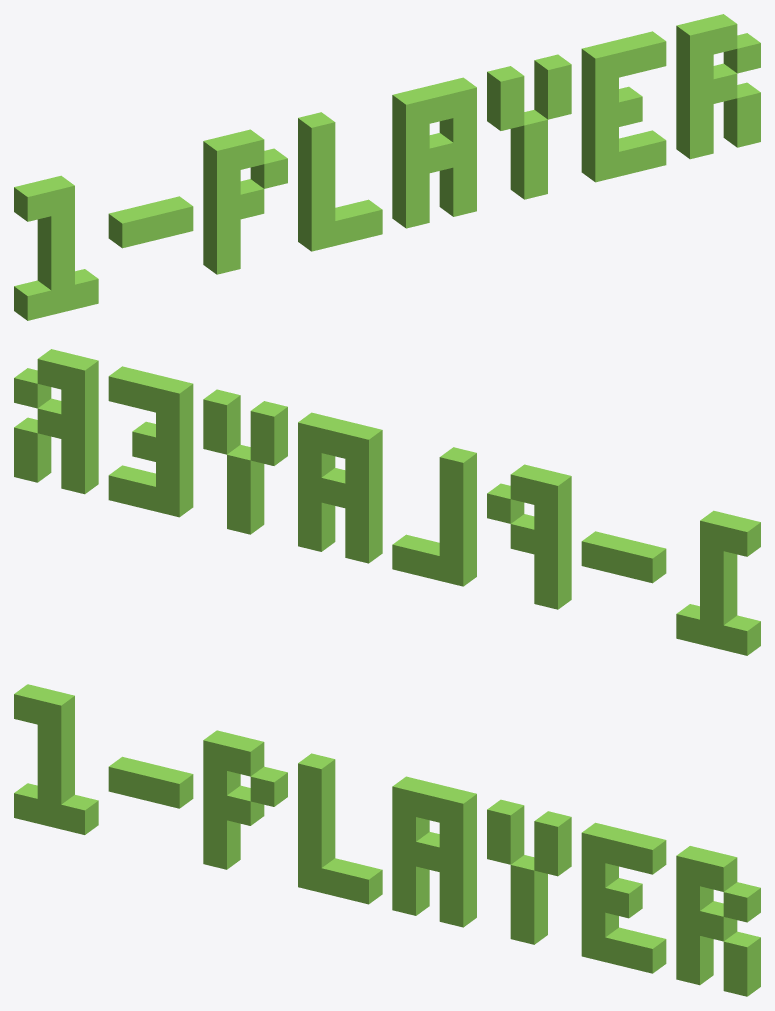
Rendered from Start1P.obj.
3 renders of one model, top to bottom at view 1: azimuth 30°, elevation 25°; view 2: azimuth 150°, elevation 25°; view 3: azimuth 330°, elevation 25°, orthographic.
Parts seen in each view (by area): view 1: Start1P; view 2: Start1P; view 3: Start1P.
Part boxes in pixels (x1,y1,x2,y2): Start1P: (14, 14, 760, 320); Start1P: (14, 349, 760, 655); Start1P: (14, 684, 760, 996).
Bounding box in the file's own units: 31 × 5 × 1.
Materials: 1 (1 with a texture image).
